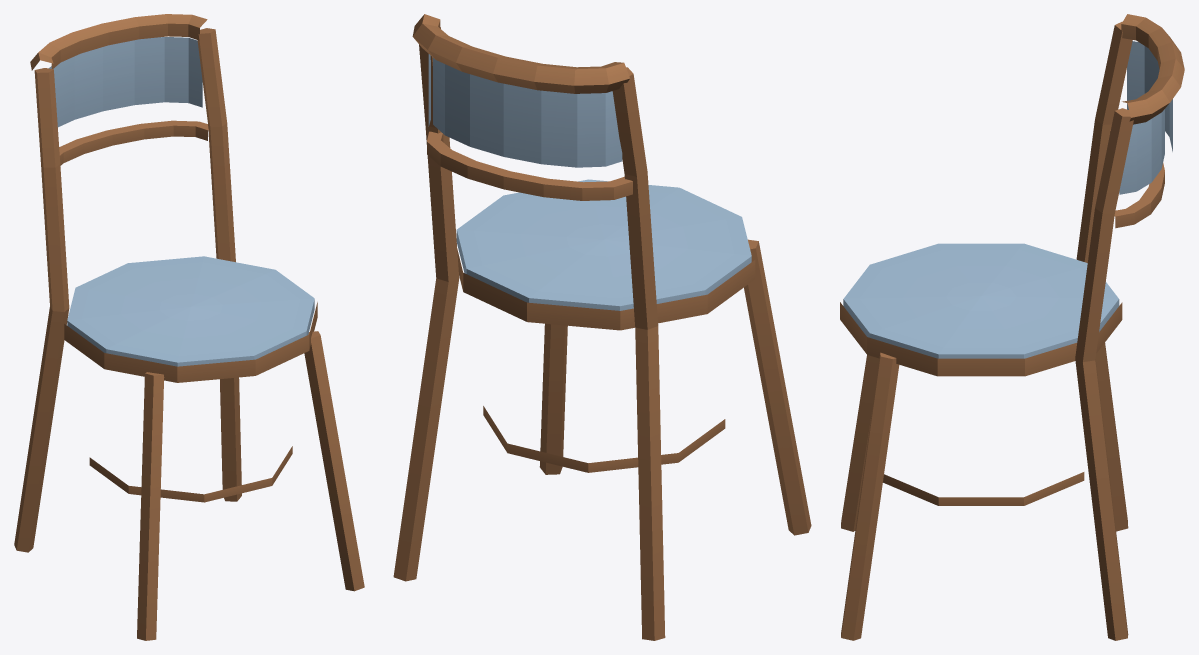
File: cafe_chair.glb
The picture shows the model from 3 angles, left to right: view 1: azimuth 30°, elevation 25°; view 2: azimuth 150°, elevation 25°; view 3: azimuth 270°, elevation 25°; orthographic projection. The views are drawn at different scales.
Visible parts, largest first — view 1: cafe_chair.001; view 2: cafe_chair.001; view 3: cafe_chair.001.
Part boxes in pixels (x1,y1,x2,y2): cafe_chair.001: (14, 14, 364, 640); cafe_chair.001: (393, 14, 811, 640); cafe_chair.001: (840, 14, 1184, 640).
Bounding box in the file's own units: 0.4322 × 0.8815 × 0.5251.
Materials: 1 (1 with a texture image).
